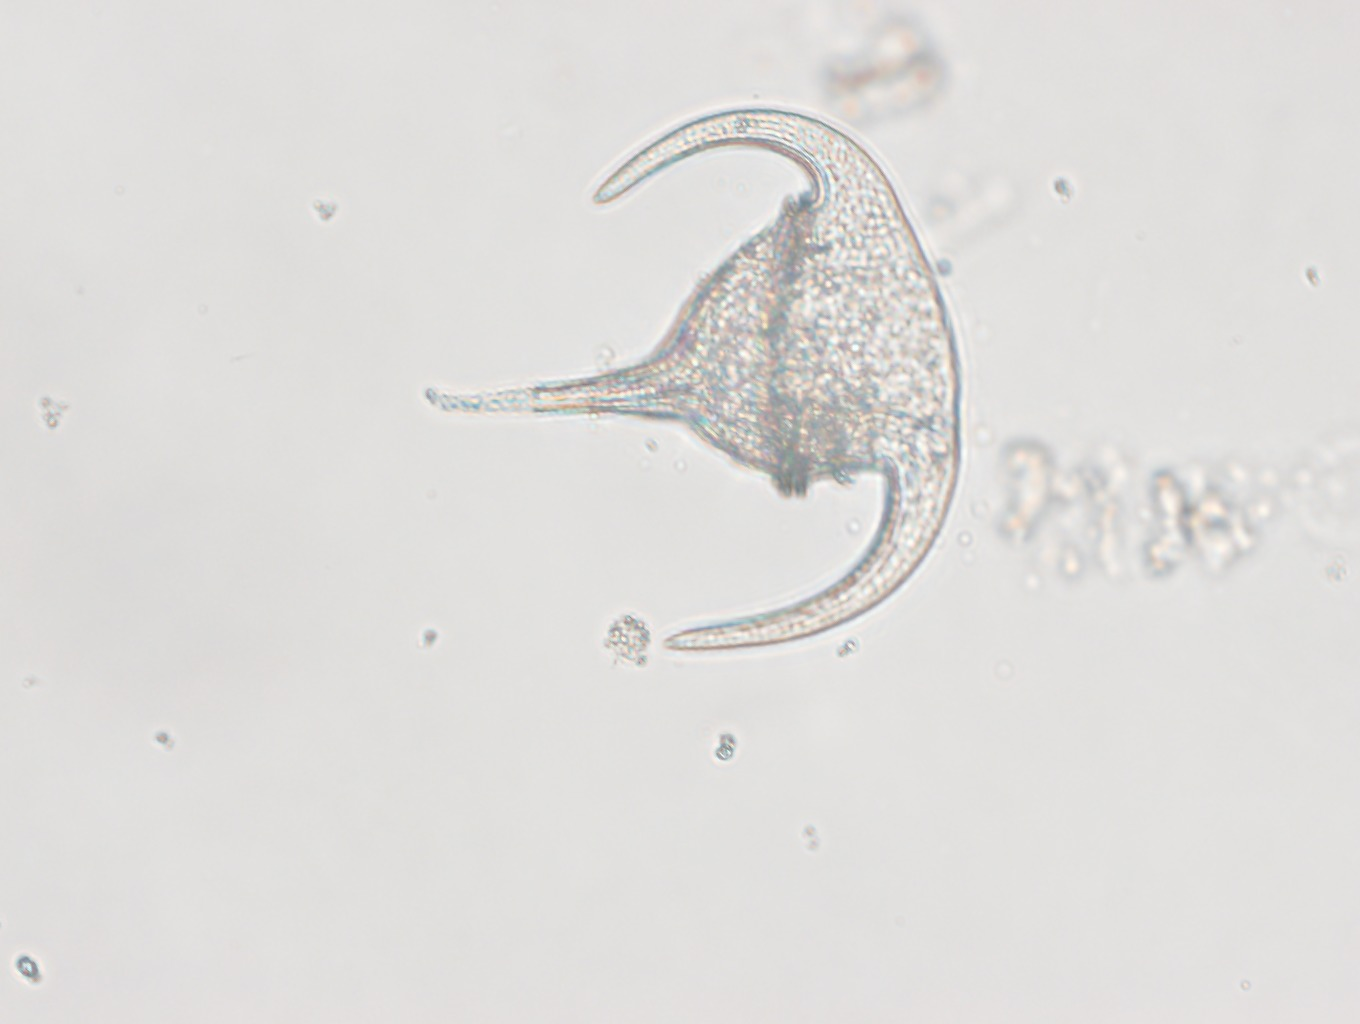ceratium tripos: (417, 106, 960, 653)
